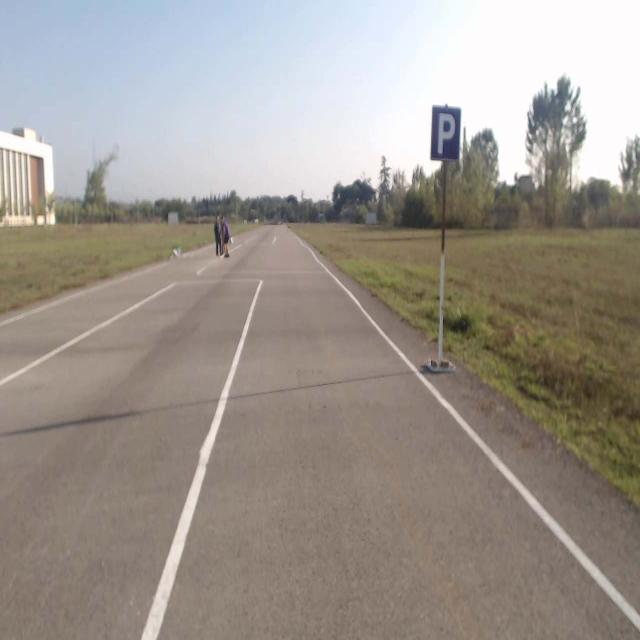park: (431, 106, 460, 160)
